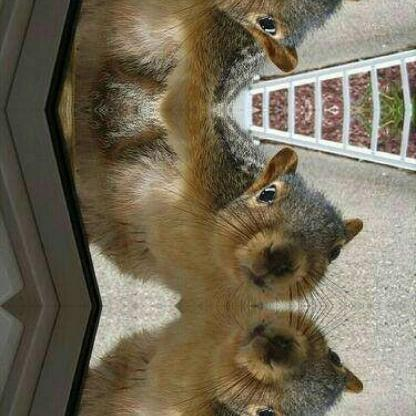Squirrel: (57, 109, 363, 305), (57, 0, 364, 110), (57, 306, 364, 415)
